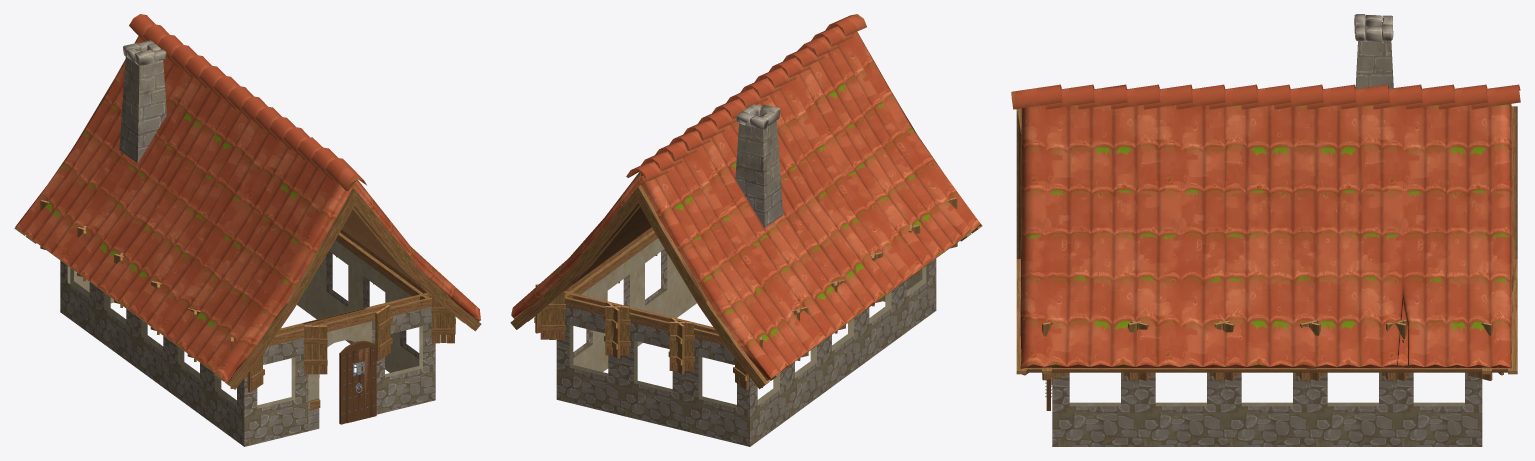
The model's file is Warehouse.gltf.
The picture shows the model from 3 angles, left to right: view 1: azimuth 30°, elevation 25°; view 2: azimuth 150°, elevation 25°; view 3: azimuth 270°, elevation 25°; orthographic projection. The views are drawn at different scales.
Parts seen in each view (by area): view 1: Roof_RoundTiles_6x10, Wall_UnevenBrick_Window_Wide_Flat (×11), Prop_Chimney, WindowShutters_Wide_Flat_Open (×2), Door_2_Round, Wall_Plaster_Door_Round; view 2: Roof_RoundTiles_6x10, Wall_UnevenBrick_Window_Wide_Flat (×12), Prop_Chimney, WindowShutters_Wide_Flat_Open (×3); view 3: Roof_RoundTiles_6x10, Wall_UnevenBrick_Window_Wide_Flat (×5), Prop_Chimney.
Boxes of the visible parts, left/top/right/bottom form: Roof_RoundTiles_6x10: left=14, top=14, right=481, bottom=389; Wall_UnevenBrick_Window_Wide_Flat (×11): left=60, top=229, right=435, bottom=446; Prop_Chimney: left=119, top=40, right=166, bottom=163; WindowShutters_Wide_Flat_Open (×2): left=247, top=294, right=455, bottom=392; Door_2_Round: left=339, top=340, right=376, bottom=424; Wall_Plaster_Door_Round: left=302, top=307, right=373, bottom=431; Roof_RoundTiles_6x10: left=510, top=14, right=982, bottom=389; Wall_UnevenBrick_Window_Wide_Flat (×12): left=556, top=227, right=936, bottom=446; Prop_Chimney: left=735, top=104, right=783, bottom=228; WindowShutters_Wide_Flat_Open (×3): left=540, top=291, right=748, bottom=390; Roof_RoundTiles_6x10: left=1011, top=84, right=1520, bottom=374; Wall_UnevenBrick_Window_Wide_Flat (×5): left=1052, top=372, right=1482, bottom=446; Prop_Chimney: left=1354, top=14, right=1393, bottom=88.
Bounding box in the file's own units: 8.25 × 8.68 × 11.85.
Materials: 7 (7 with a texture image).
